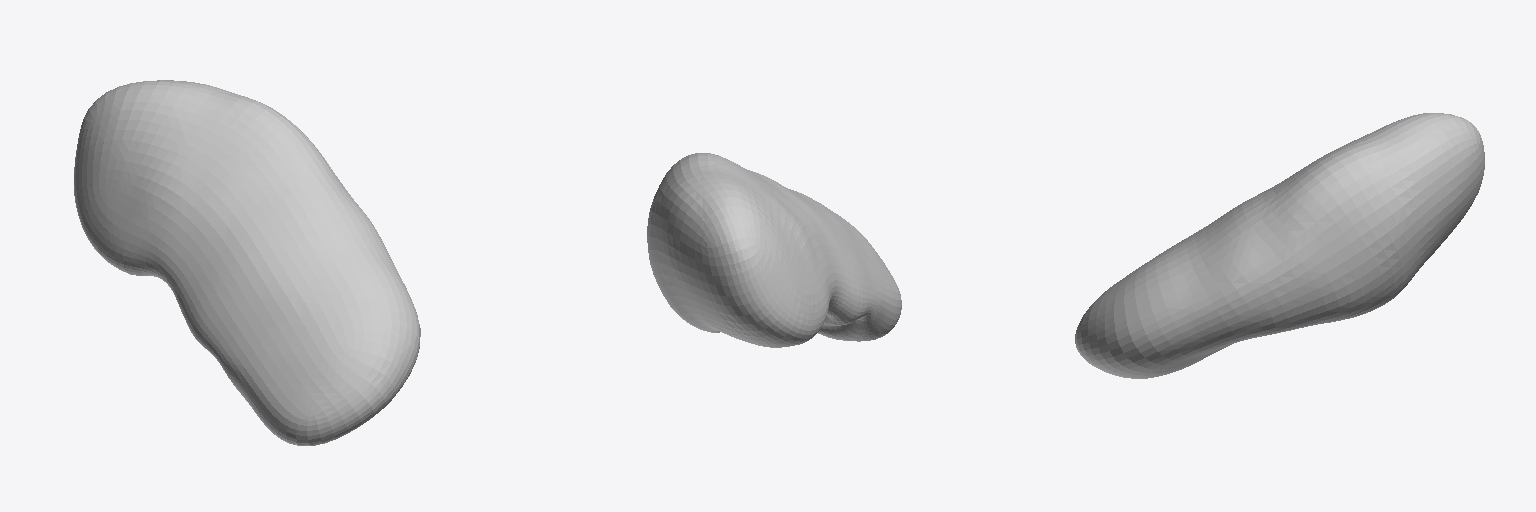
Rendered from 8K_Kidney_Right.OBJ.
The picture shows the model from 3 angles: view 1: azimuth 30°, elevation 25°; view 2: azimuth 150°, elevation 25°; view 3: azimuth 270°, elevation 25°; orthographic projection.
Visible parts, largest first — view 1: ZBrushPolyMesh3D; view 2: ZBrushPolyMesh3D; view 3: ZBrushPolyMesh3D.
Part boxes in pixels (bbox=[...]): ZBrushPolyMesh3D: bbox=[74, 80, 420, 445]; ZBrushPolyMesh3D: bbox=[647, 153, 901, 347]; ZBrushPolyMesh3D: bbox=[1075, 113, 1484, 378].
Size of the model in its own units: 8.16 by 9.51 by 14.04.